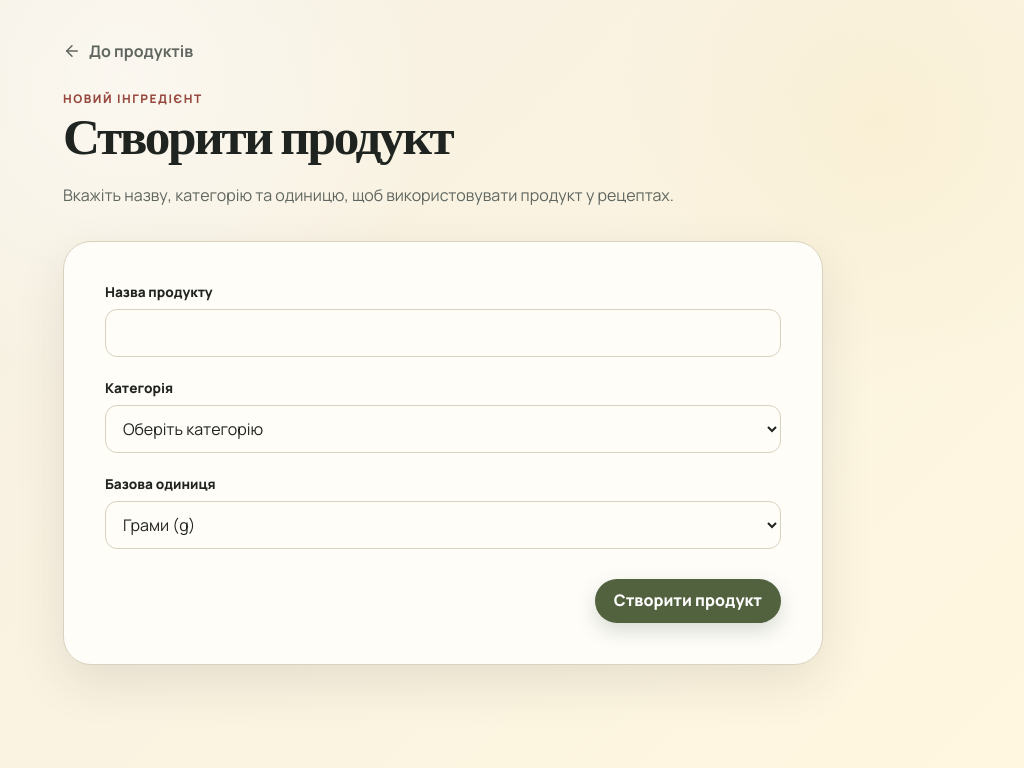
Test: ProductEditorPage › shows a duplicate-name error without losing the form
Type "Гречка" into the field labelled "Назва продукту".
click(443, 333); type("Гречка")  # box [105,309,781,357]
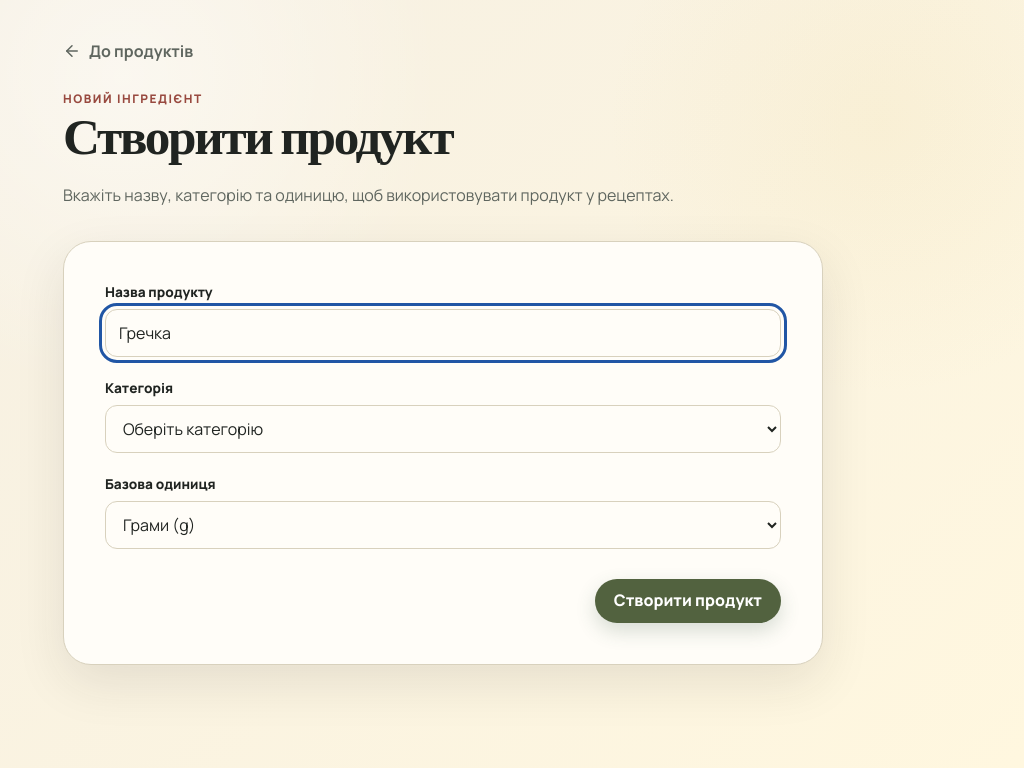
Select "Крупи та макарони" in the dropdown labelled "Категорія" at (443, 429), box [105,405,781,453]
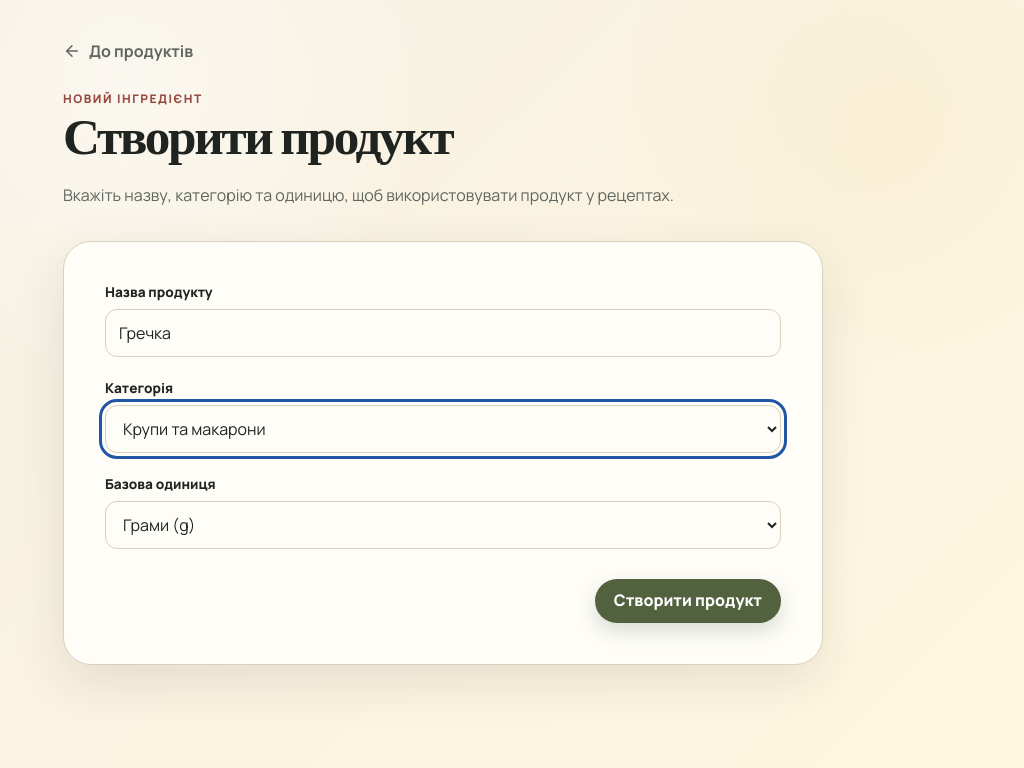
Click the button "Створити продукт".
click(688, 601)  # box [595,579,781,623]
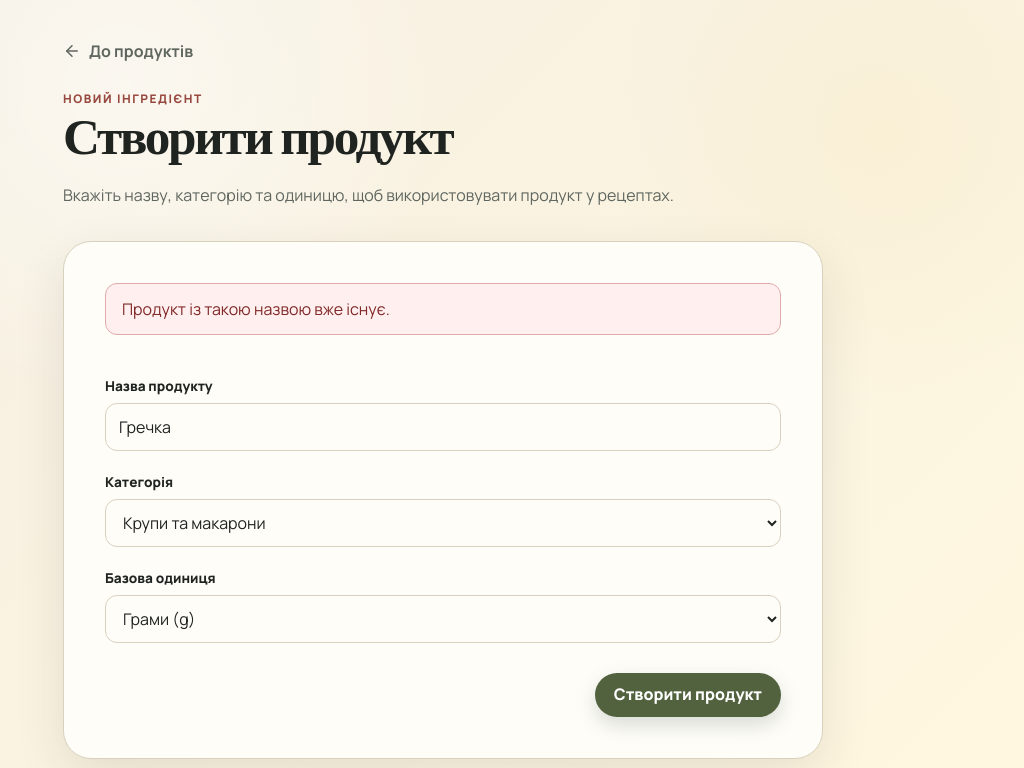
Now the message shows "Продукт із такою назвою вже існує", box [122,298,390,320]
